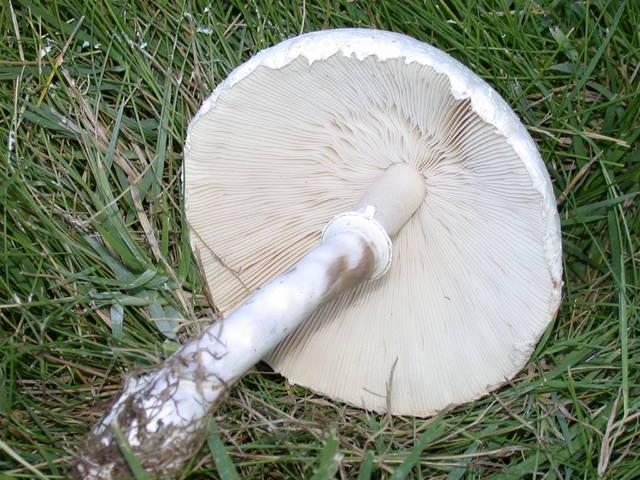poisonous_mushroom: (71, 25, 565, 478)
